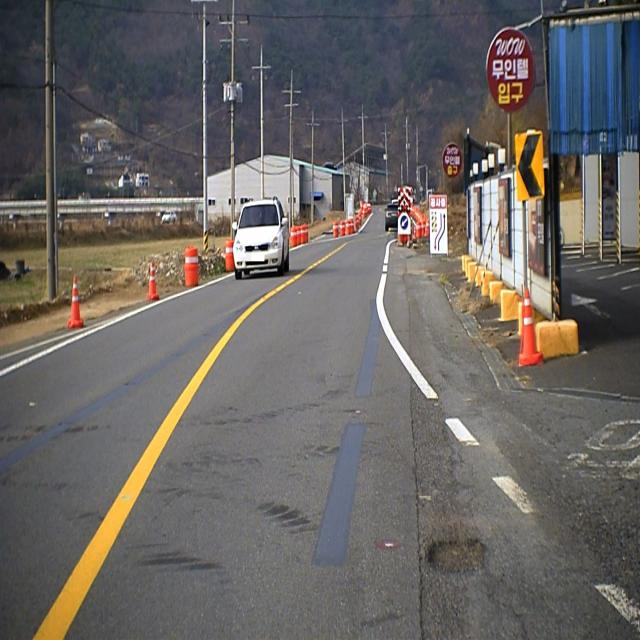Pothole: (418, 514, 493, 588)
